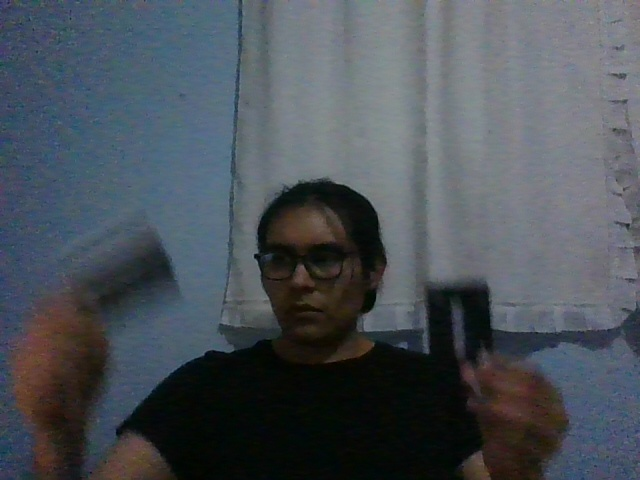tarjeta: (422, 277, 493, 370)
